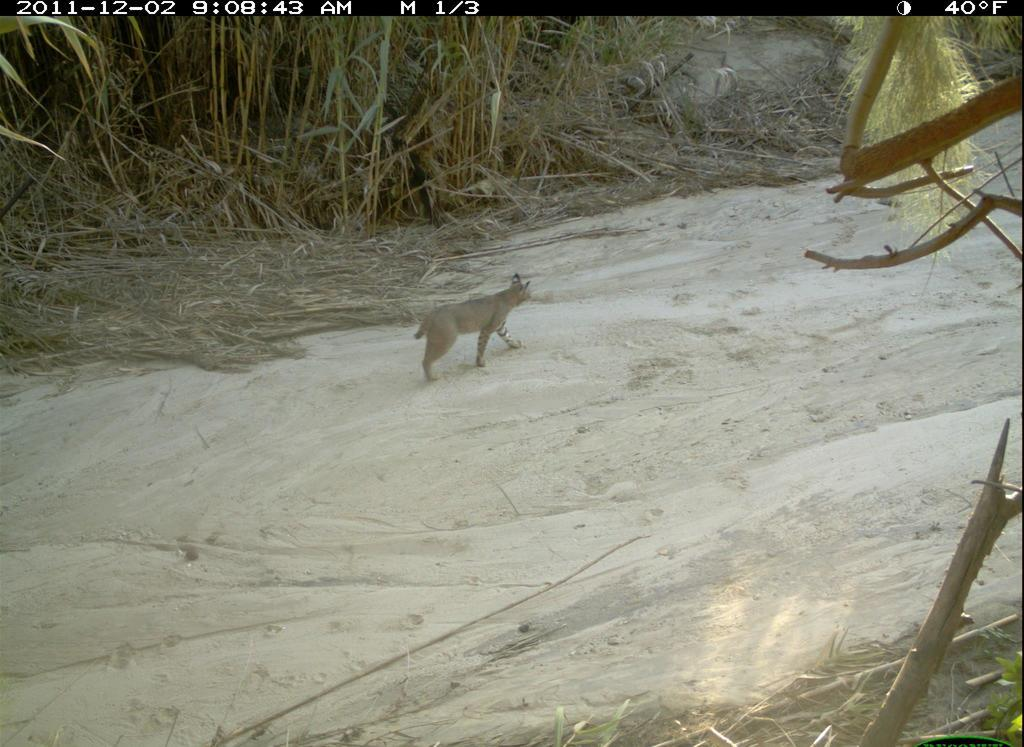bobcat: (413, 273, 538, 386)
